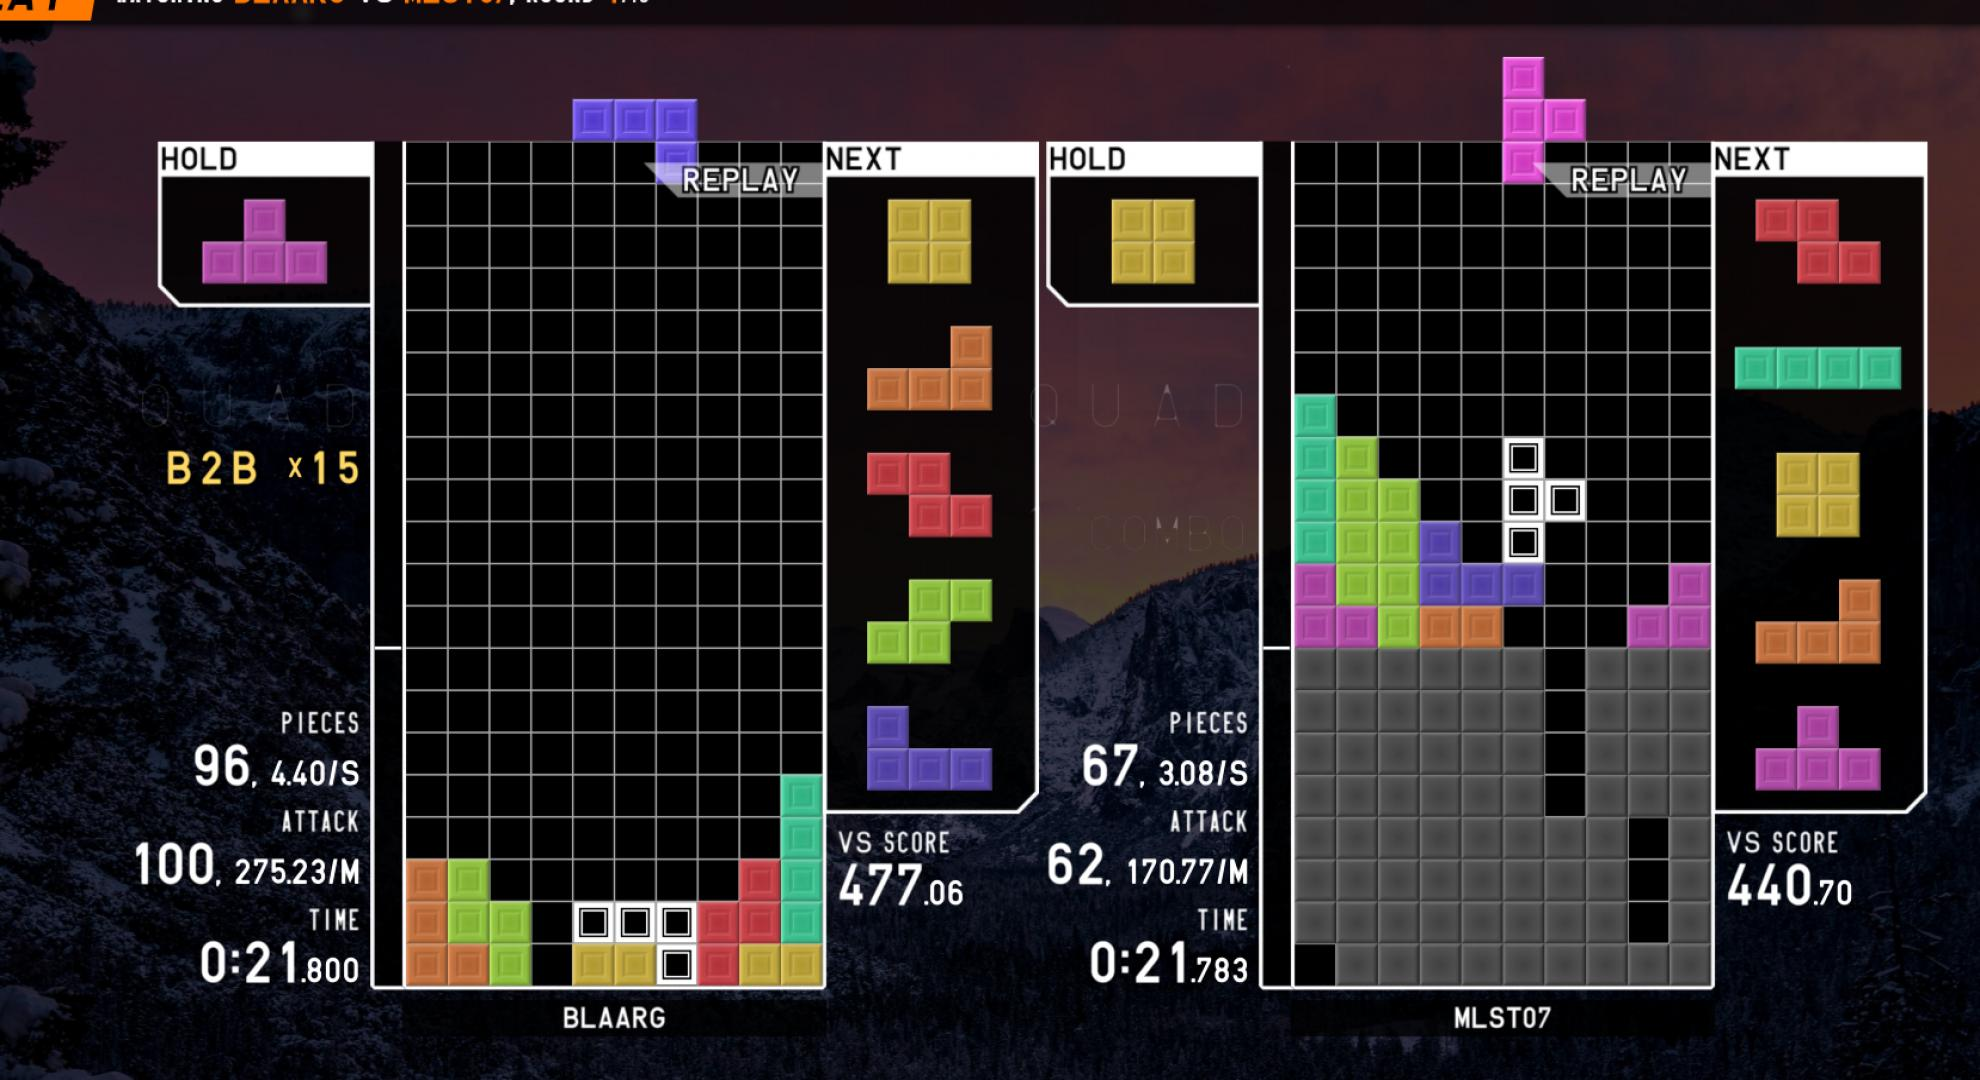tspin: (1492, 564, 1637, 700)
